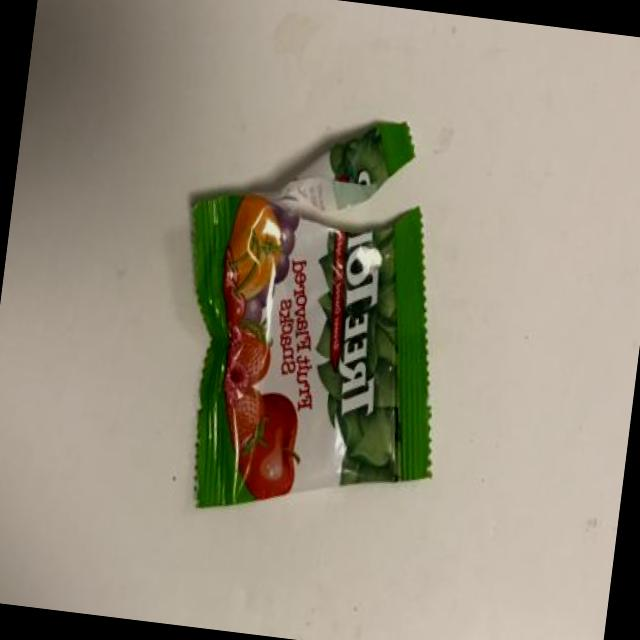giay_goi: (190, 121, 430, 506)
